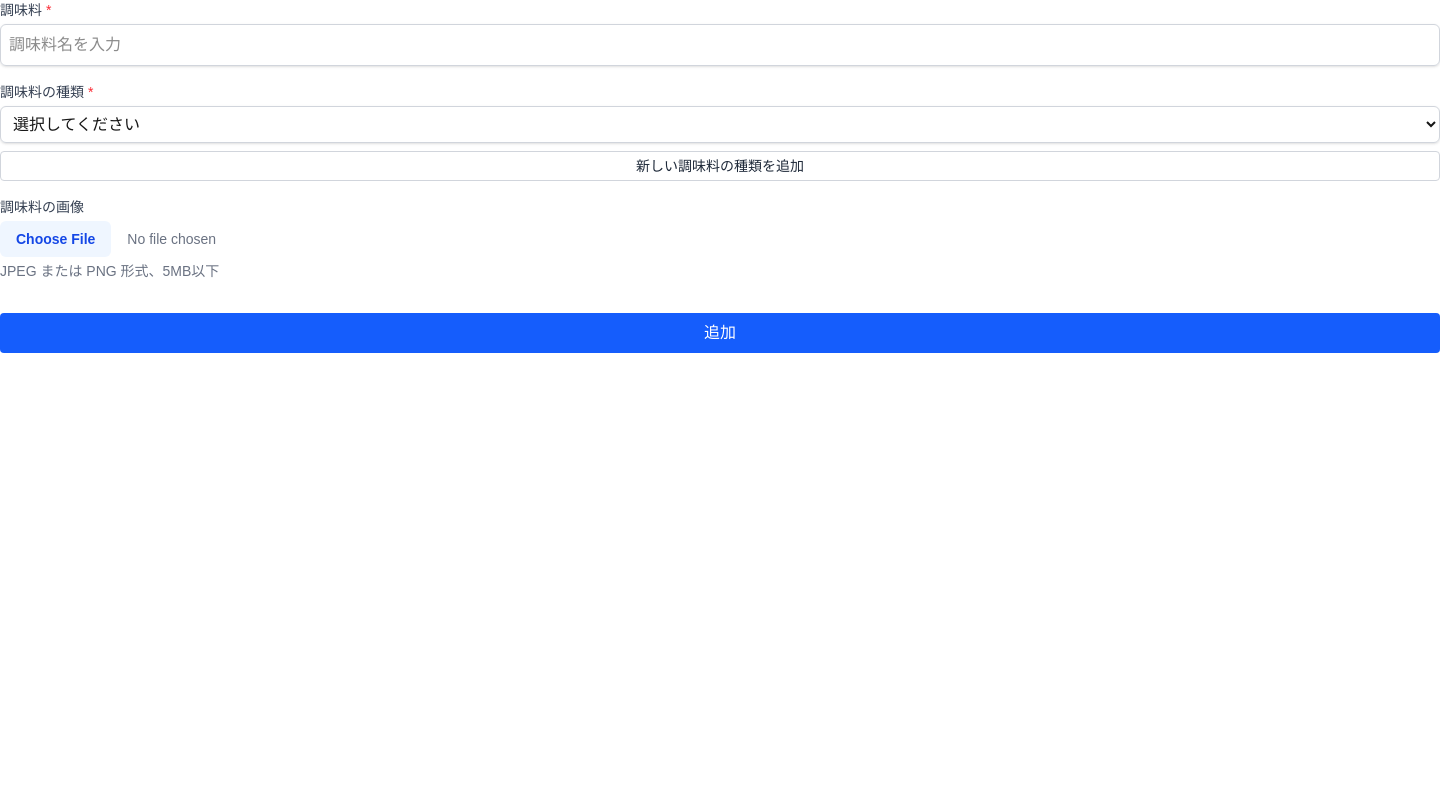
Scenario: モーダルで種類を追加するとリストに反映され選択される
Step 1. Click the button "新しい調味料の種類を追加" → (720, 166), box [0,151,1439,181]
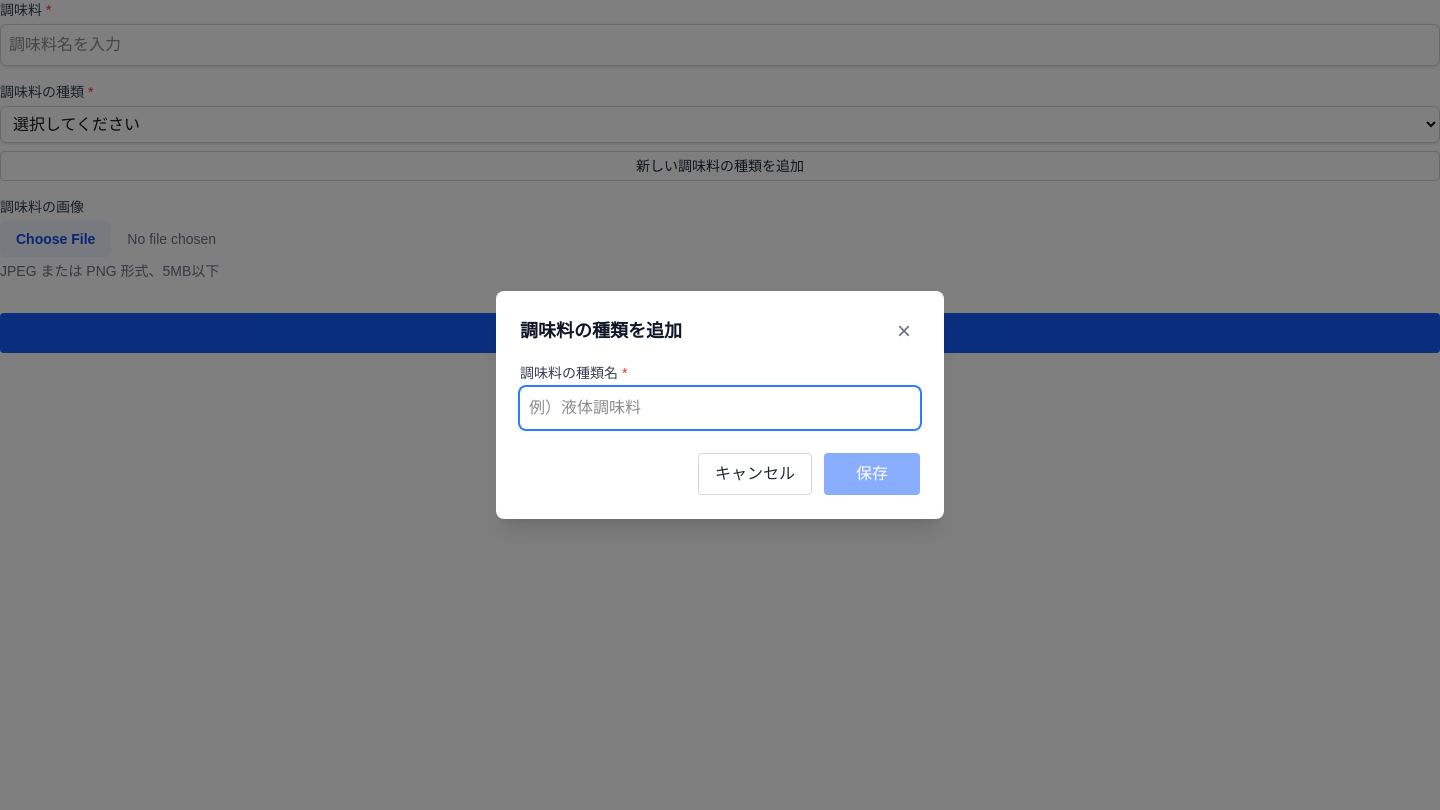
Step 2. Type "新しい種類" into the field labelled "調味料の種類名 *" → (720, 408), box [520,387,920,429]
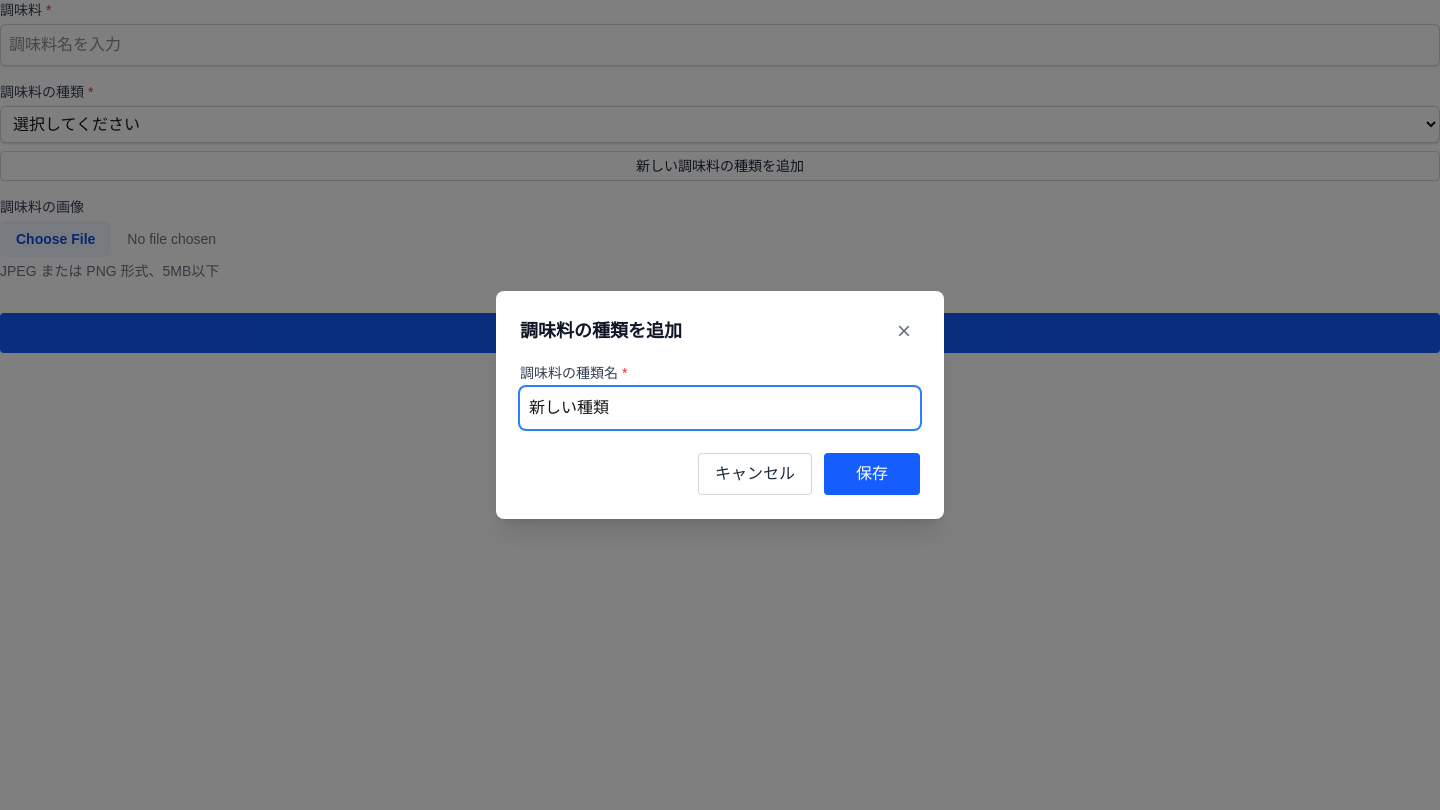
Step 3. Click the button "保存" → (872, 474), box [824,453,920,495]
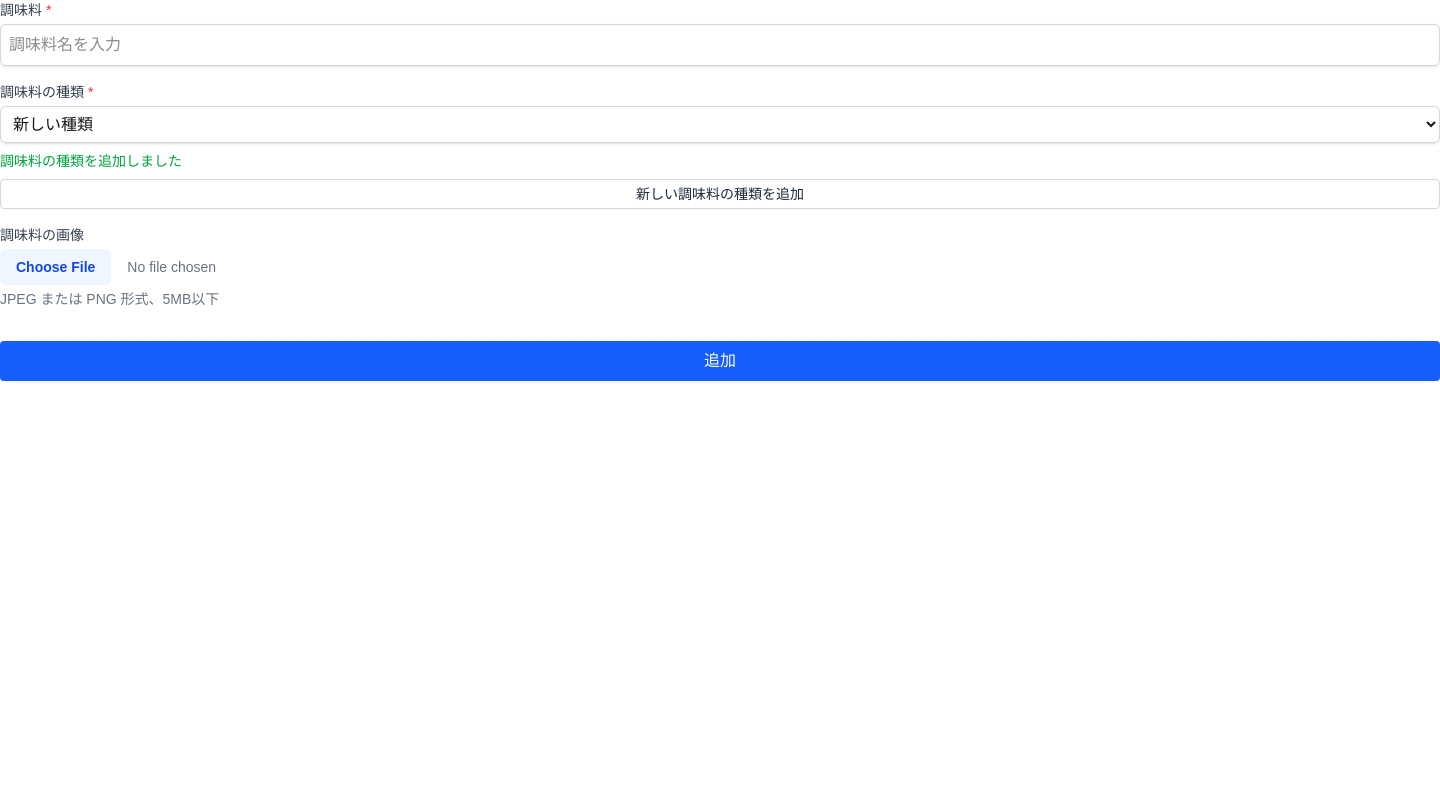
Check: the text "調味料の種類を追加しました" is shown, box [0,153,182,169]
Check: the dropdown labelled "調味料の種類 *" shows "新しい種類", box [0,106,1439,143]
